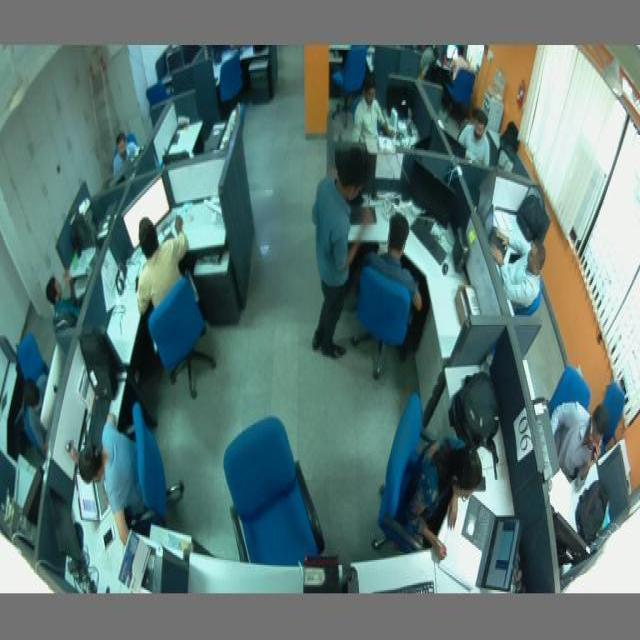chair: (222, 412, 331, 566), (148, 284, 226, 398), (372, 394, 428, 548), (354, 268, 416, 384), (133, 402, 185, 528), (328, 44, 376, 113), (538, 369, 594, 426), (220, 58, 256, 114), (13, 334, 52, 383), (600, 383, 630, 442), (445, 62, 476, 115), (512, 288, 546, 318), (146, 80, 168, 102)
keyboard: (412, 213, 451, 269), (375, 571, 440, 594), (348, 203, 378, 227), (492, 224, 507, 268)
laptop: (456, 491, 522, 592), (76, 470, 110, 535)
monitor: (121, 172, 173, 248), (410, 158, 454, 234), (50, 491, 90, 566), (552, 506, 595, 574)
person: (310, 145, 368, 358), (408, 437, 484, 560), (78, 408, 144, 532), (132, 215, 192, 315), (368, 215, 427, 315), (546, 400, 610, 492), (494, 227, 545, 315), (352, 78, 394, 144), (22, 368, 50, 457), (458, 112, 494, 170), (110, 130, 144, 183), (44, 274, 80, 324)
phone: (98, 526, 119, 549)
